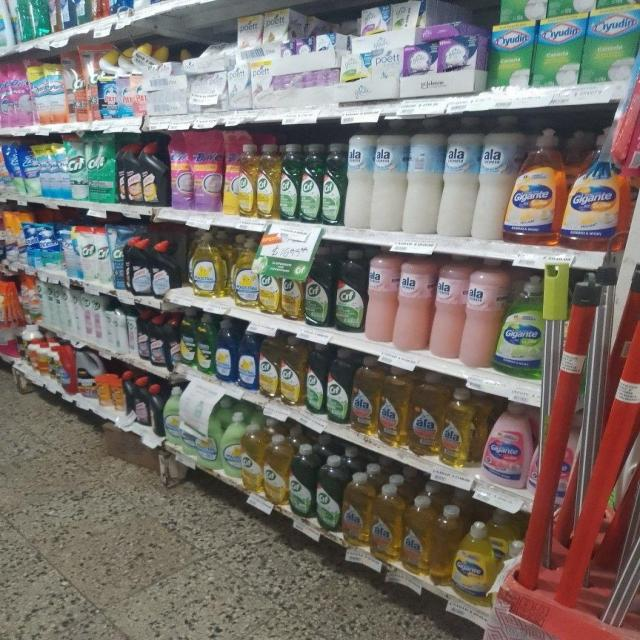ala_conc_amarillo: (441, 388, 478, 468), (409, 372, 440, 457), (371, 481, 402, 562), (403, 496, 433, 576), (379, 367, 408, 447), (351, 355, 378, 436), (342, 471, 370, 548)
ala_crem_blanco: (476, 115, 512, 241), (442, 115, 477, 239), (406, 117, 441, 236), (373, 119, 405, 233), (346, 124, 372, 230)
ala_crem_rosado: (463, 259, 497, 368), (396, 253, 431, 353), (432, 256, 464, 361), (366, 250, 395, 344)
cif_conc_bot_amarilla: (280, 334, 304, 408), (256, 143, 278, 219), (235, 143, 255, 218), (259, 332, 279, 399)
cif_conc_botella_verde: (335, 248, 366, 333), (304, 245, 334, 328), (316, 454, 341, 533), (322, 141, 344, 226), (326, 349, 350, 425), (290, 443, 314, 518), (300, 142, 321, 224), (280, 143, 300, 221), (305, 342, 325, 416)
magistral_con_amarillo: (188, 229, 227, 299), (230, 235, 258, 309)
magistral_con_azul: (216, 318, 236, 384), (238, 326, 258, 391)
